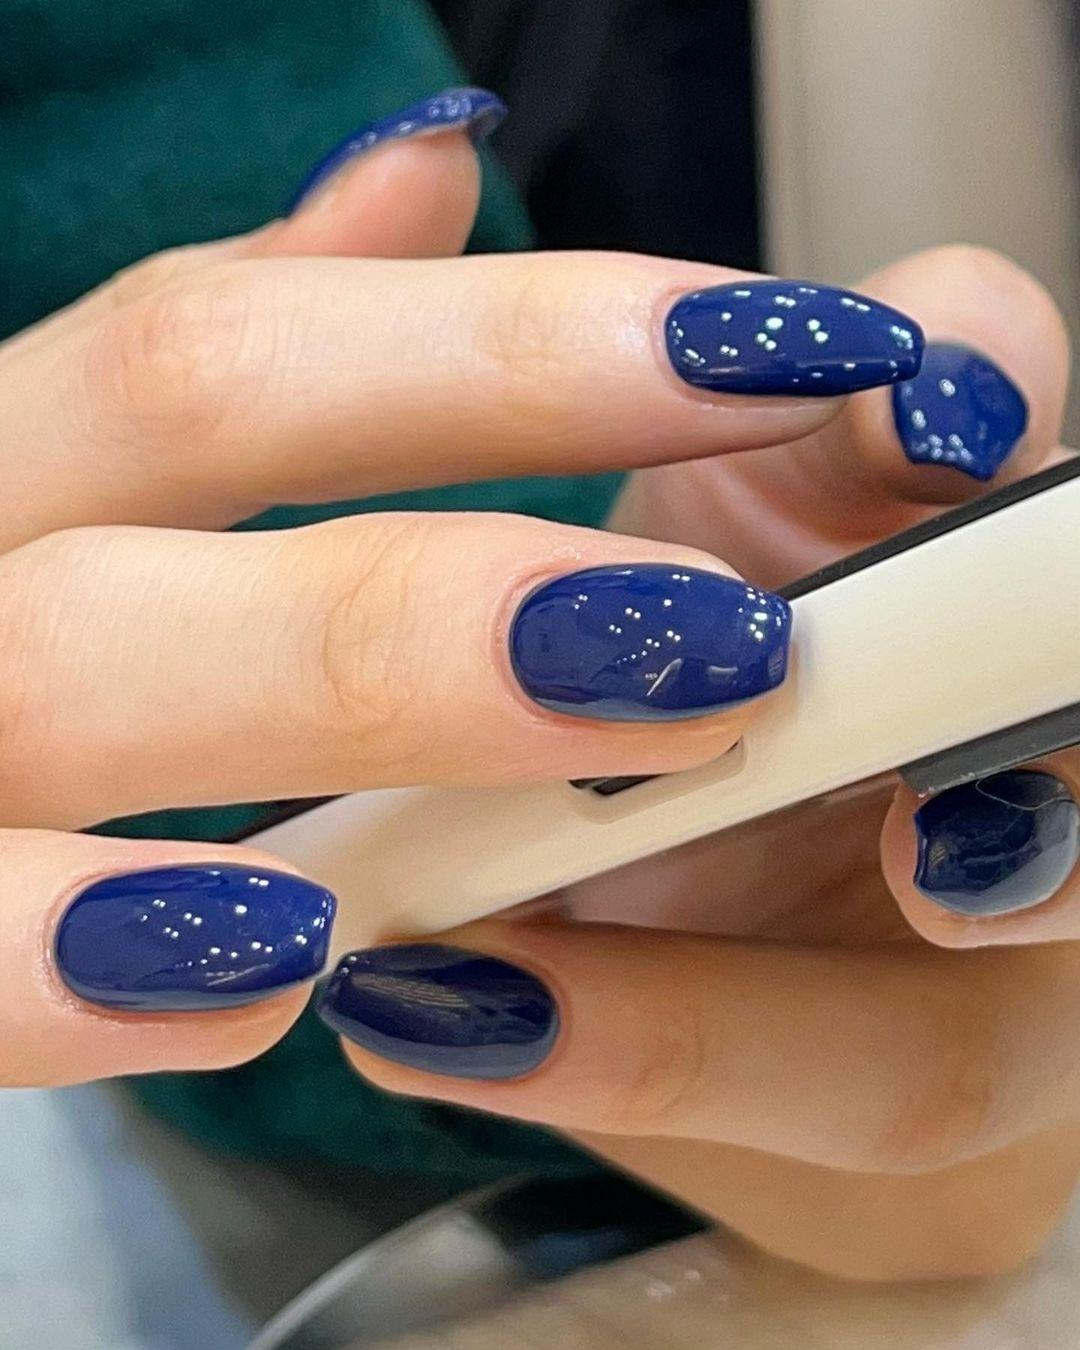nail: (506, 559, 793, 722), (52, 860, 337, 1012), (314, 939, 562, 1081), (662, 276, 925, 397), (284, 83, 508, 215), (911, 765, 1077, 918), (890, 337, 1029, 480)
